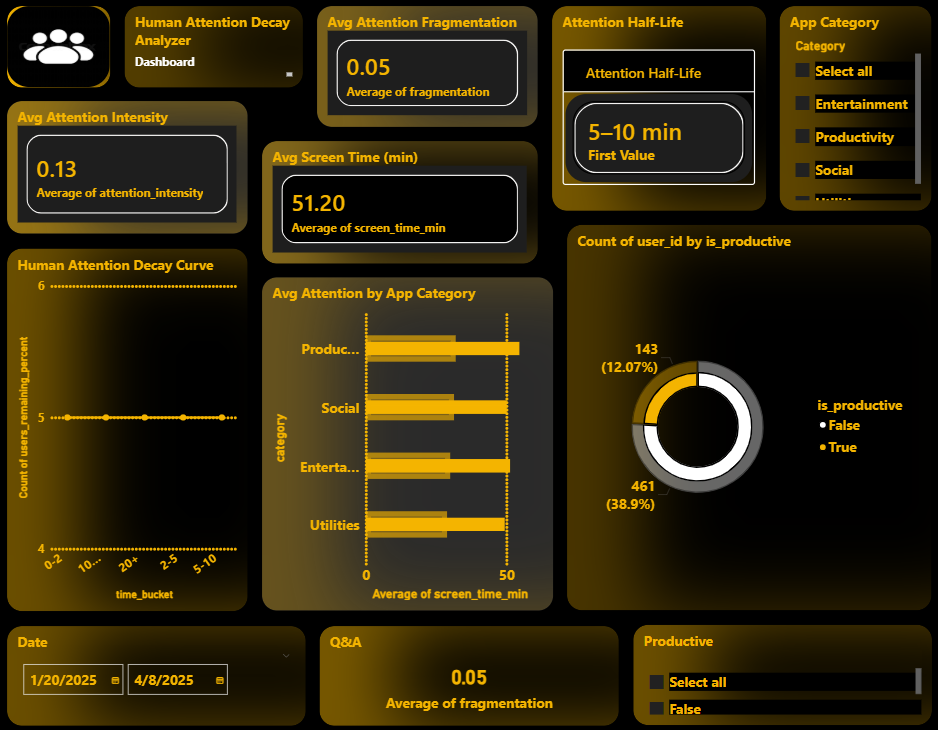

The page's visual inventory and layout, read from the dashboard file:
{"tool":"powerbi","page":{"name":"Page 1","canvas":[1280,1000],"ordinal":0},"visuals":[{"type":"cardVisual","title":"Avg Screen Time (min)","fields":{"Data":["Avg(attention_cleaned.screen_time_min)"]},"box":[347.5,183.8,395,186.2],"z":0},{"type":"cardVisual","title":"Avg Attention Intensity","fields":{"Data":["Avg(attention_cleaned.attention_intensity)"]},"box":[0,130,347.5,200],"z":1000},{"type":"cardVisual","title":"Attention Half-Life","fields":{"Rows":["Value.Metric"],"Data":["Min(Value.Value)"]},"box":[742.5,0,311.2,298.8],"z":2000},{"type":"cardVisual","title":"Avg Attention Fragmentation","fields":{"Data":["Avg(attention_cleaned.fragmentation)"]},"box":[422.5,0,320,183.8],"z":3000},{"type":"lineChart","title":"Human Attention Decay Curve","fields":{"Category":["attention_cleaned.time_bucket"],"Y":["CountNonNull(attention_decay.users_remaining_percent)"]},"box":[0,330,347.5,513.8],"z":4000},{"type":"clusteredBarChart","title":"Avg Attention by App Category","fields":{"Category":["attention_cleaned.category"],"Y":["Avg(attention_cleaned.screen_time_min)"]},"box":[347.5,370,416.2,473.8],"z":5000},{"type":"donutChart","fields":{"Category":["attention_cleaned.is_productive"],"Y":["CountNonNull(attention_cleaned.user_id)"]},"box":[763.8,298.8,516.2,545],"z":6000},{"type":"slicer","title":"App Category","fields":{"Values":["attention_cleaned.category"]},"box":[1053.8,0,226.2,298.8],"z":7000},{"type":"slicer","title":"Date","fields":{"Values":["attention_cleaned.date"]},"box":[0,845,426.2,155],"z":8000},{"type":"slicer","title":"Productive","fields":{"Values":["attention_cleaned.is_productive"]},"box":[853.8,843.8,426.2,156.2],"z":9000},{"type":"card","title":"Q&A","fields":{"Values":["Avg(attention_cleaned.fragmentation)"]},"box":[426.2,845,427.5,155],"z":10000},{"type":"image","box":[0,0,160,130],"z":11000},{"type":"textbox","title":"Human Attention Decay Analyzer","box":[160,0,262.5,130],"z":12000}]}

Visuals, with their boxes in screenshot pixels (x1, y1, x2, y2), scaled from the page's 1280x1000 canvas onto the 938x730 screenshot:
"Avg Screen Time (min)" cardVisual: {"left": 255, "top": 134, "right": 544, "bottom": 270}
"Avg Attention Intensity" cardVisual: {"left": 0, "top": 95, "right": 255, "bottom": 241}
"Attention Half-Life" cardVisual: {"left": 544, "top": 0, "right": 772, "bottom": 218}
"Avg Attention Fragmentation" cardVisual: {"left": 310, "top": 0, "right": 544, "bottom": 134}
"Human Attention Decay Curve" lineChart: {"left": 0, "top": 241, "right": 255, "bottom": 616}
"Avg Attention by App Category" clusteredBarChart: {"left": 255, "top": 270, "right": 560, "bottom": 616}
donutChart - attention_cleaned.is_productive x CountNonNull(attention_cleaned.user_id): {"left": 560, "top": 218, "right": 937, "bottom": 616}
"App Category" slicer: {"left": 772, "top": 0, "right": 937, "bottom": 218}
"Date" slicer: {"left": 0, "top": 617, "right": 312, "bottom": 729}
"Productive" slicer: {"left": 626, "top": 616, "right": 937, "bottom": 729}
"Q&A" card: {"left": 312, "top": 617, "right": 626, "bottom": 729}
image: {"left": 0, "top": 0, "right": 117, "bottom": 95}
"Human Attention Decay Analyzer" textbox: {"left": 117, "top": 0, "right": 310, "bottom": 95}
